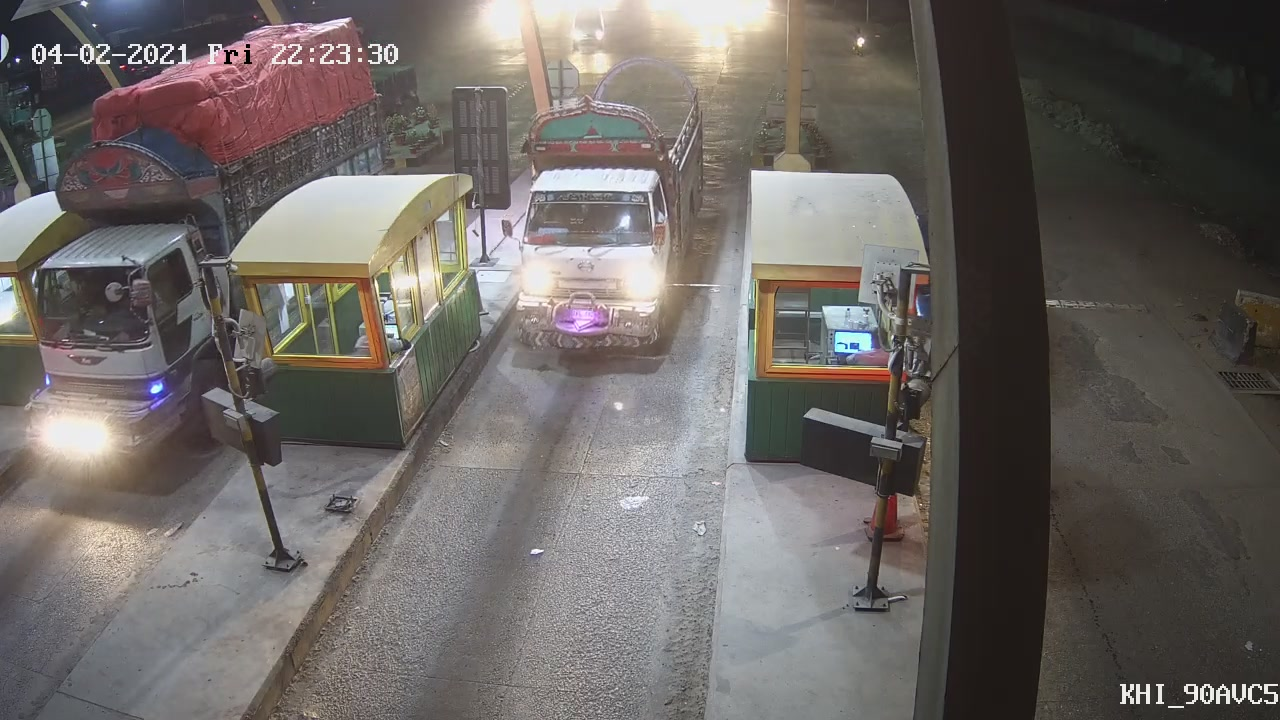F5: (504, 69, 709, 374)
